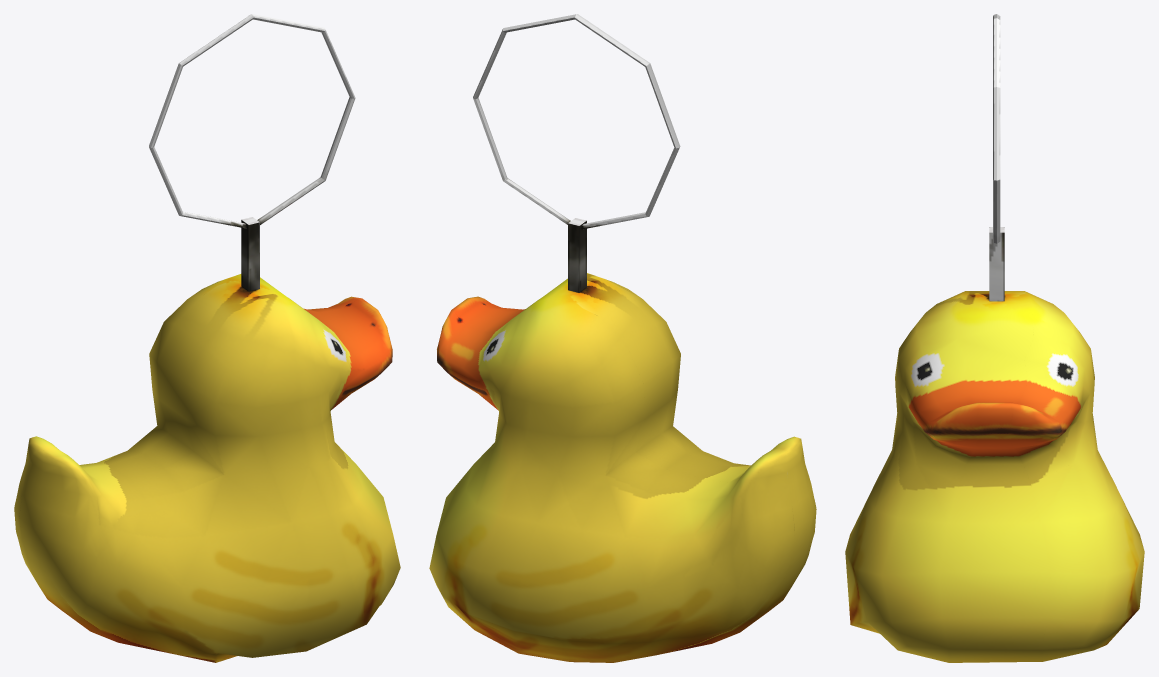
3 views of the same model, side by side, from view 1: azimuth 30°, elevation 25°; view 2: azimuth 150°, elevation 25°; view 3: azimuth 270°, elevation 25° (orthographic). The views are drawn at different scales.
Visible parts, largest first — view 1: Torus.001; view 2: Torus.001; view 3: Torus.001.
Boxes of the visible parts, left/top/right/bottom form: Torus.001: left=14, top=14, right=400, bottom=662; Torus.001: left=429, top=14, right=816, bottom=662; Torus.001: left=845, top=14, right=1144, bottom=662.
Size of the model in its own units: 98.11 by 165 by 71.8.
1 material, 1 textured.
